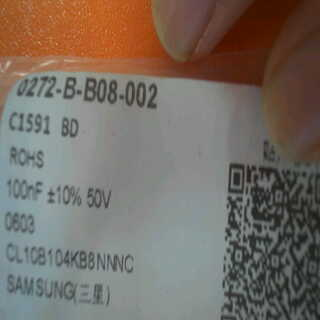100nF: (4, 176, 42, 207)
